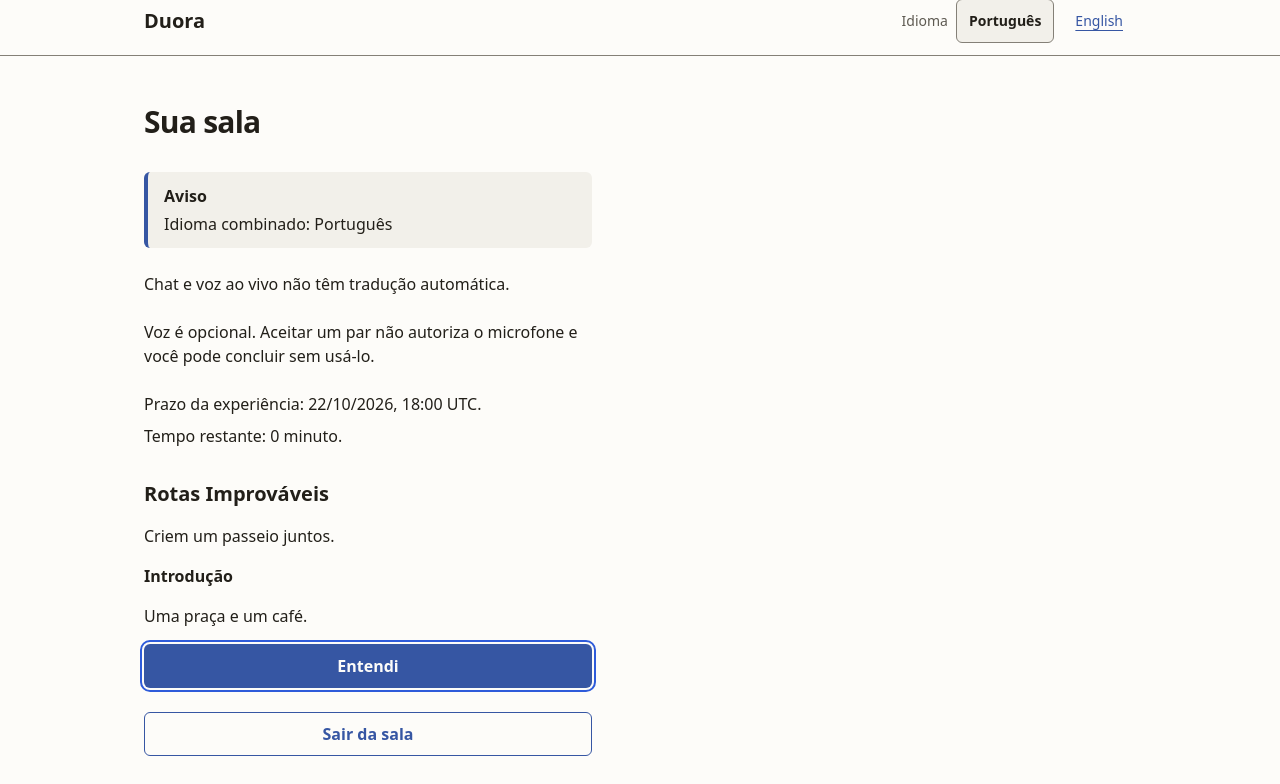
Test: Routes room › acknowledges both stages, shows only projected clues and completes through keyboard actions
Expected: the text "Criem um passeio juntos." is shown, [144,525,334,547]
Press Enter
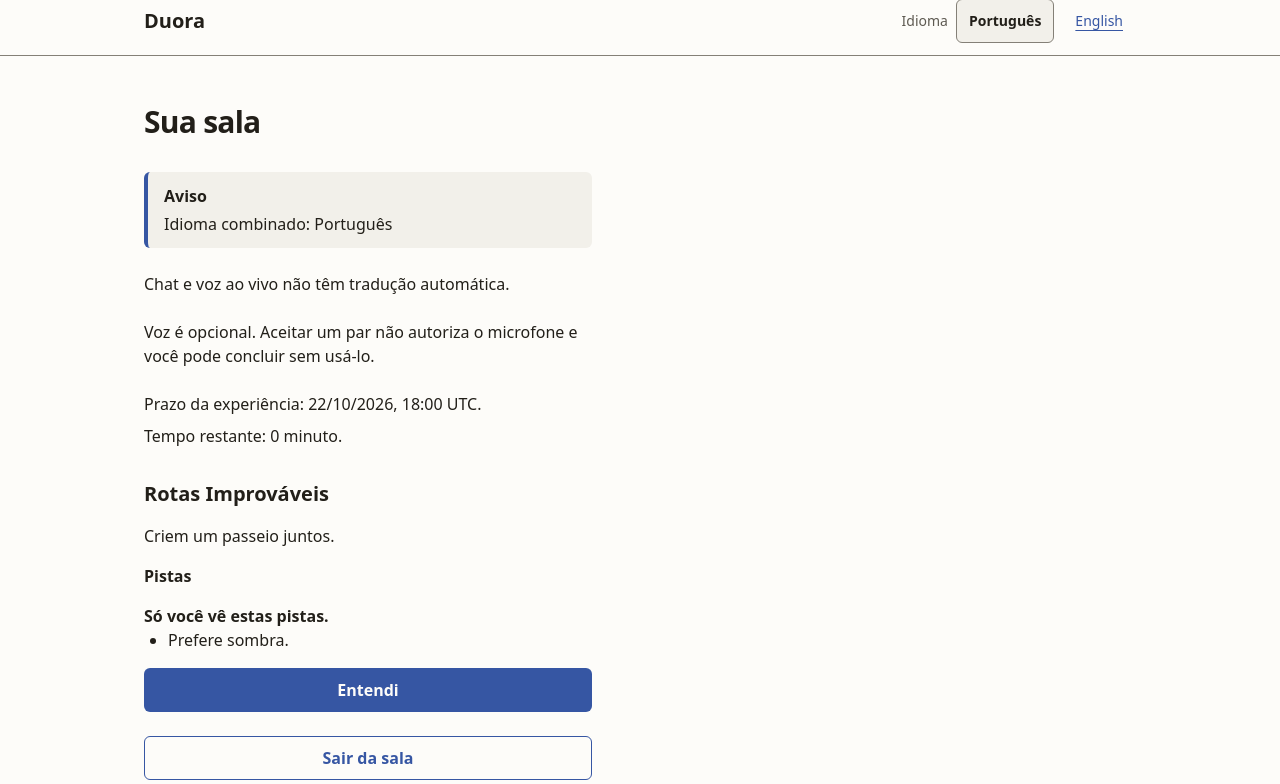
Now the list item "Prefere sombra." is shown, box [168,629,289,651]
Now the heading "Só você vê estas pistas." is shown, box [144,605,329,627]
Click the button "Entendi": (368, 690) [144,668,592,712]
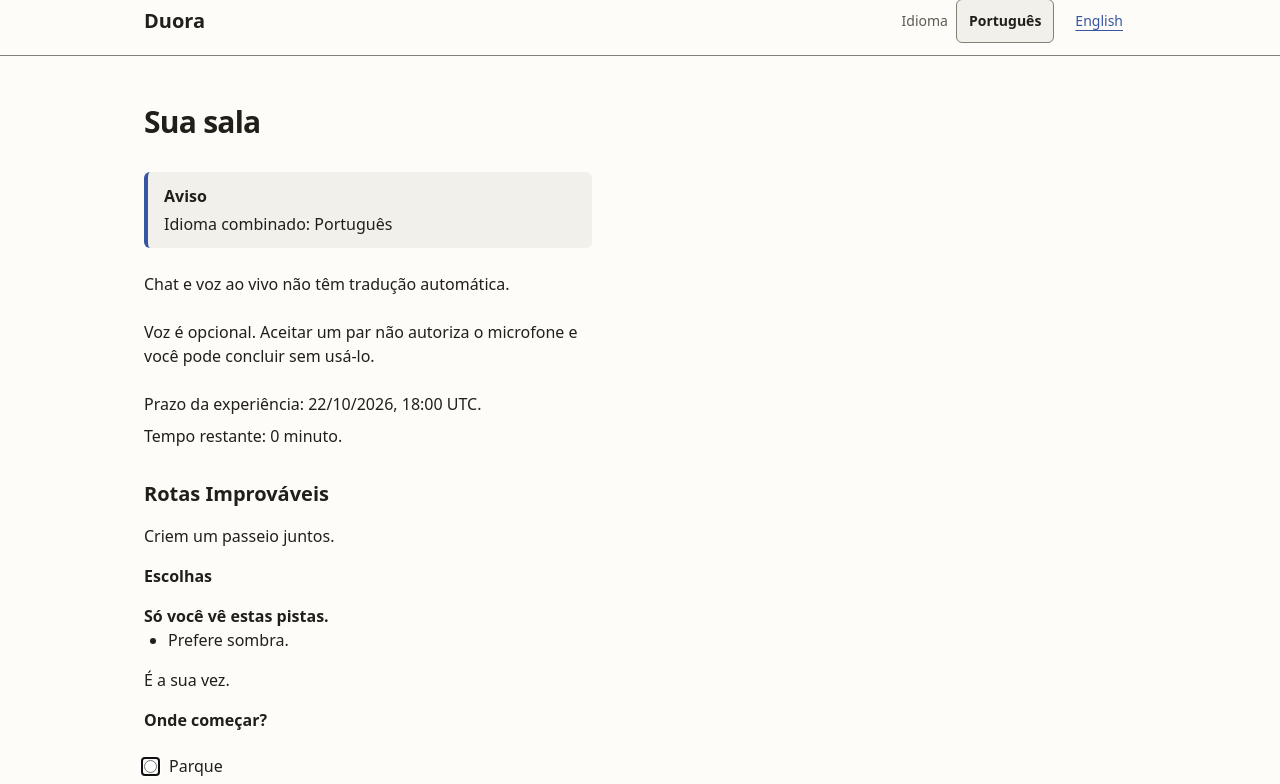
Type keys " "
(page scrolled)
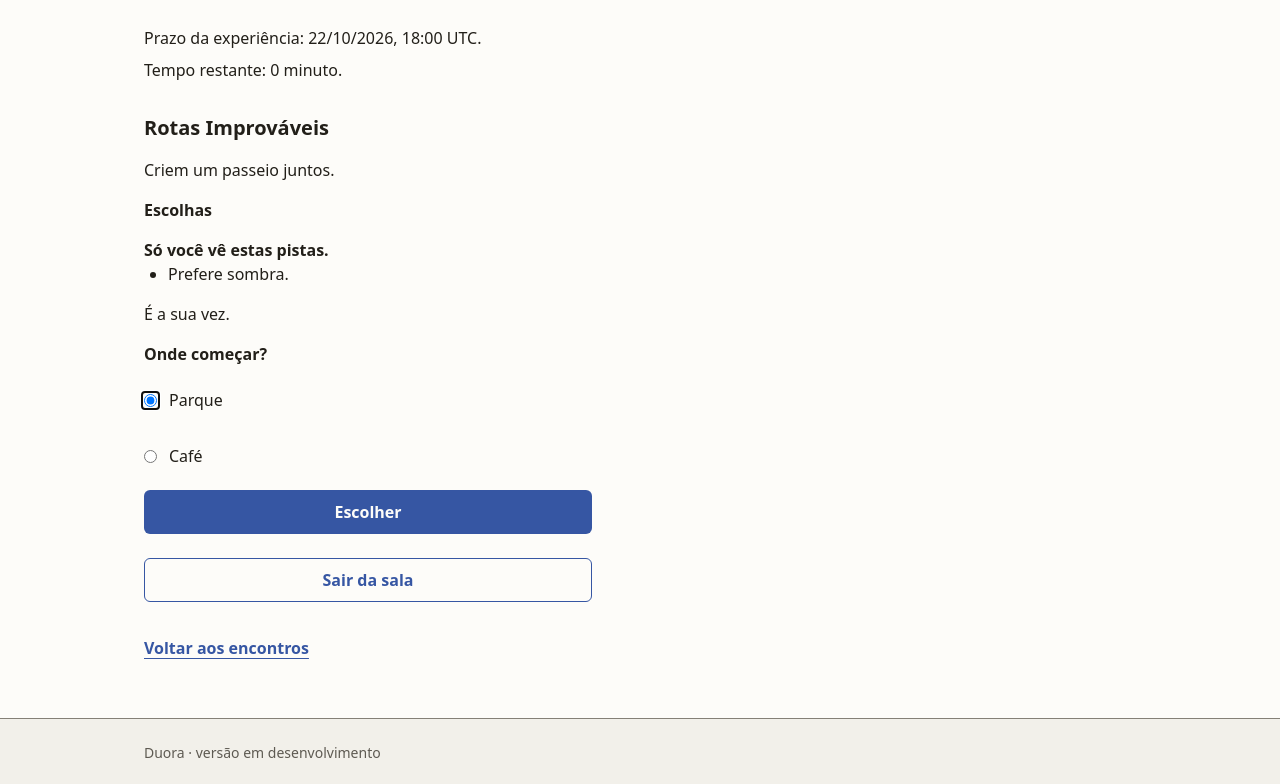
Click the button "Escolher": (368, 512) [144,490,592,534]
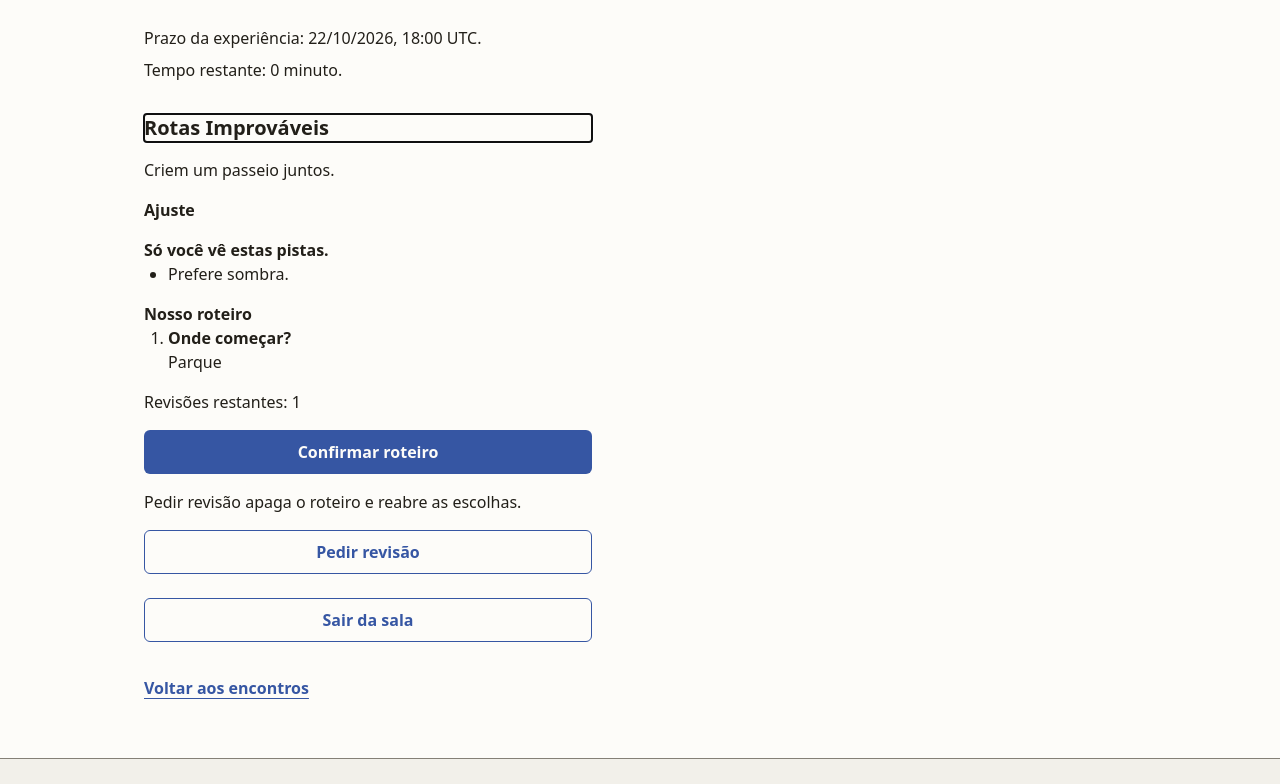
Click the button "Confirmar roteiro": (368, 452) [144,430,592,474]
(page scrolled)
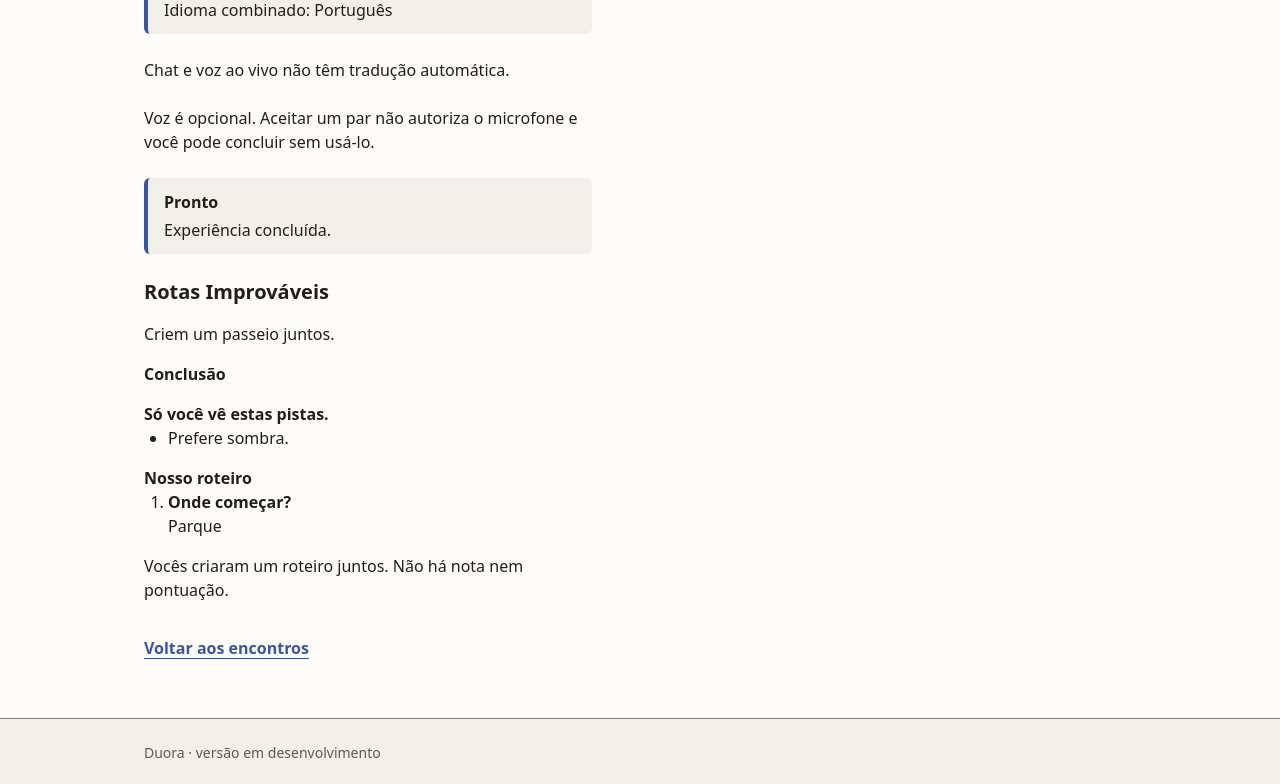
Now the text "Parque" is shown, box [168,515,222,537]
Now the text "Experiência concluída." is shown, box [164,219,331,241]
Now the button "Confirmar roteiro" is gone
